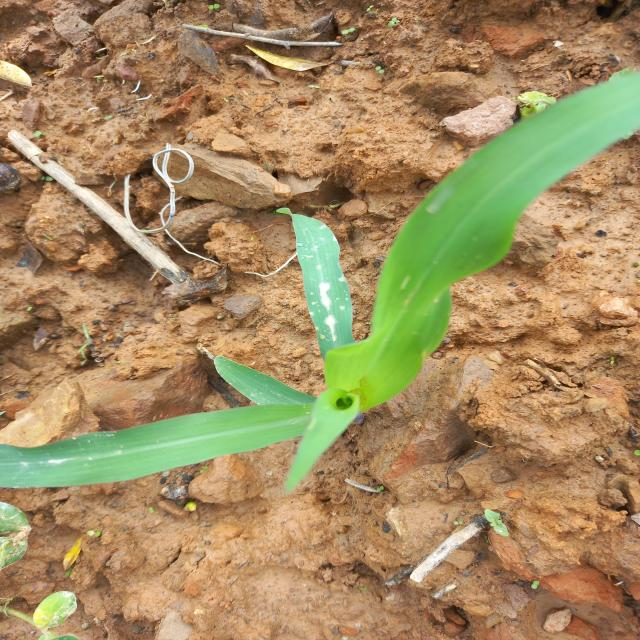maize: (185, 246, 510, 482), (403, 88, 640, 250), (11, 406, 309, 485)
